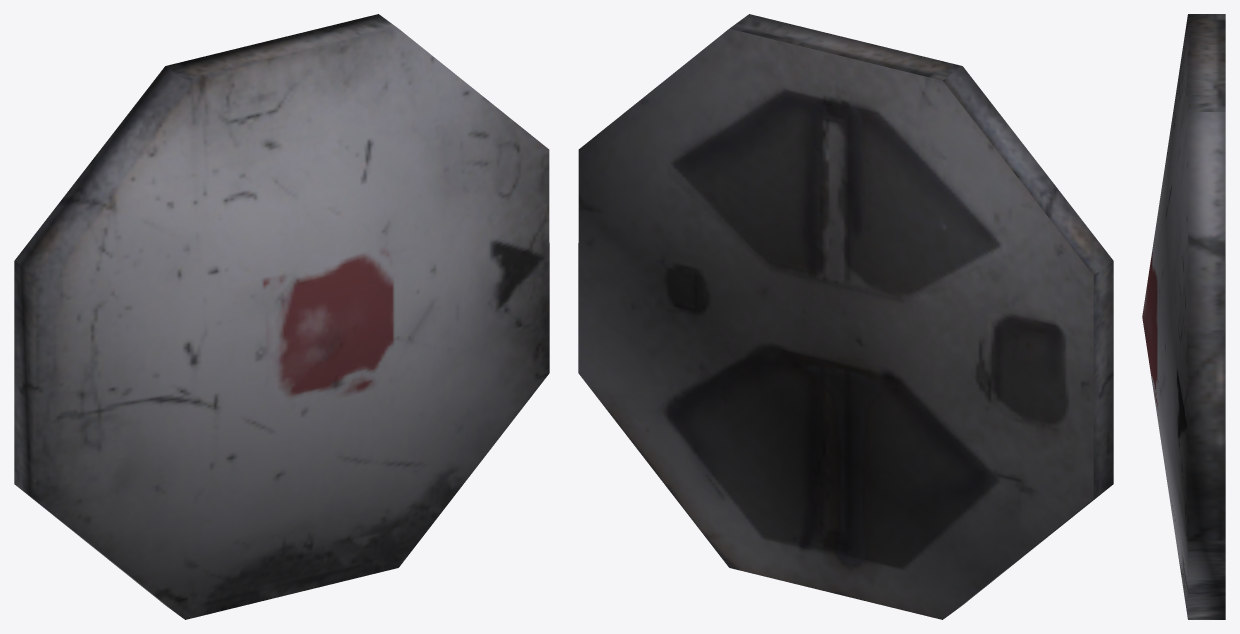
File: pipe_regulator_door02.DAE
3 renders of one model, left to right at view 1: azimuth 30°, elevation 25°; view 2: azimuth 150°, elevation 25°; view 3: azimuth 270°, elevation 25°, orthographic. The views are drawn at different scales.
Parts seen in each view (by area): view 1: pipe_regulator_door02; view 2: pipe_regulator_door02; view 3: pipe_regulator_door02.
Boxes of the visible parts, box(x1,y1,x2,y2) form: pipe_regulator_door02: box(14, 14, 549, 619); pipe_regulator_door02: box(578, 14, 1113, 619); pipe_regulator_door02: box(1142, 14, 1225, 619).
Bounding box in the file's own units: 0.582 × 0.582 × 0.0867.
